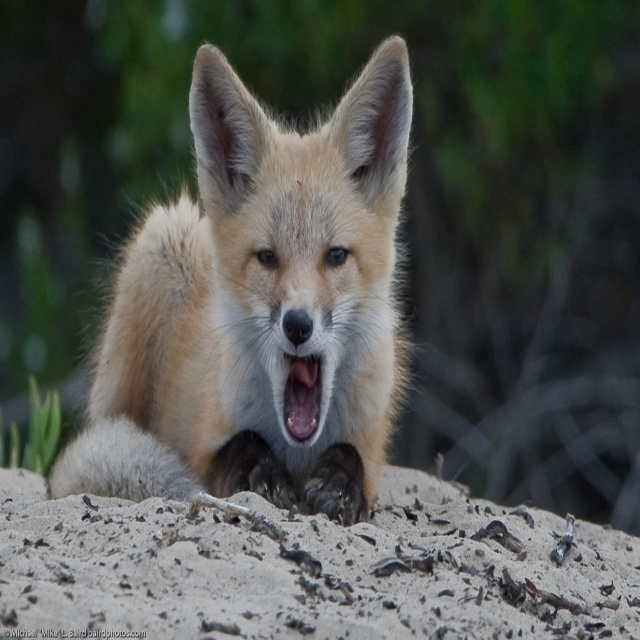Fox: (44, 31, 430, 528)
